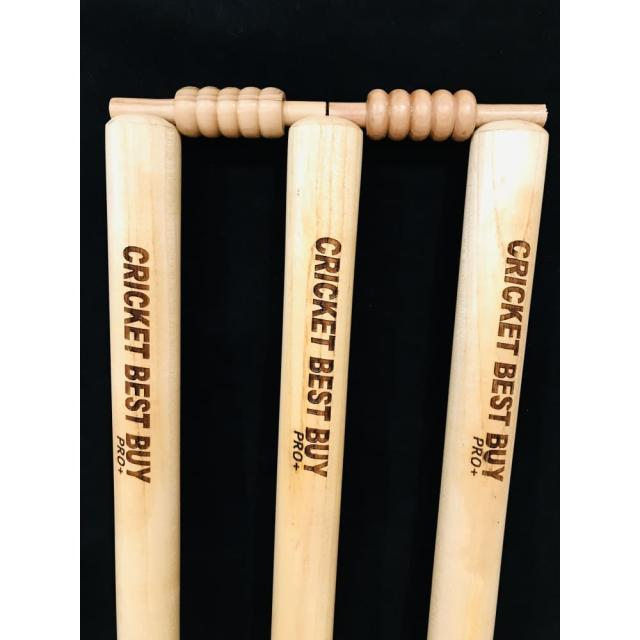stump: (104, 82, 548, 640)
